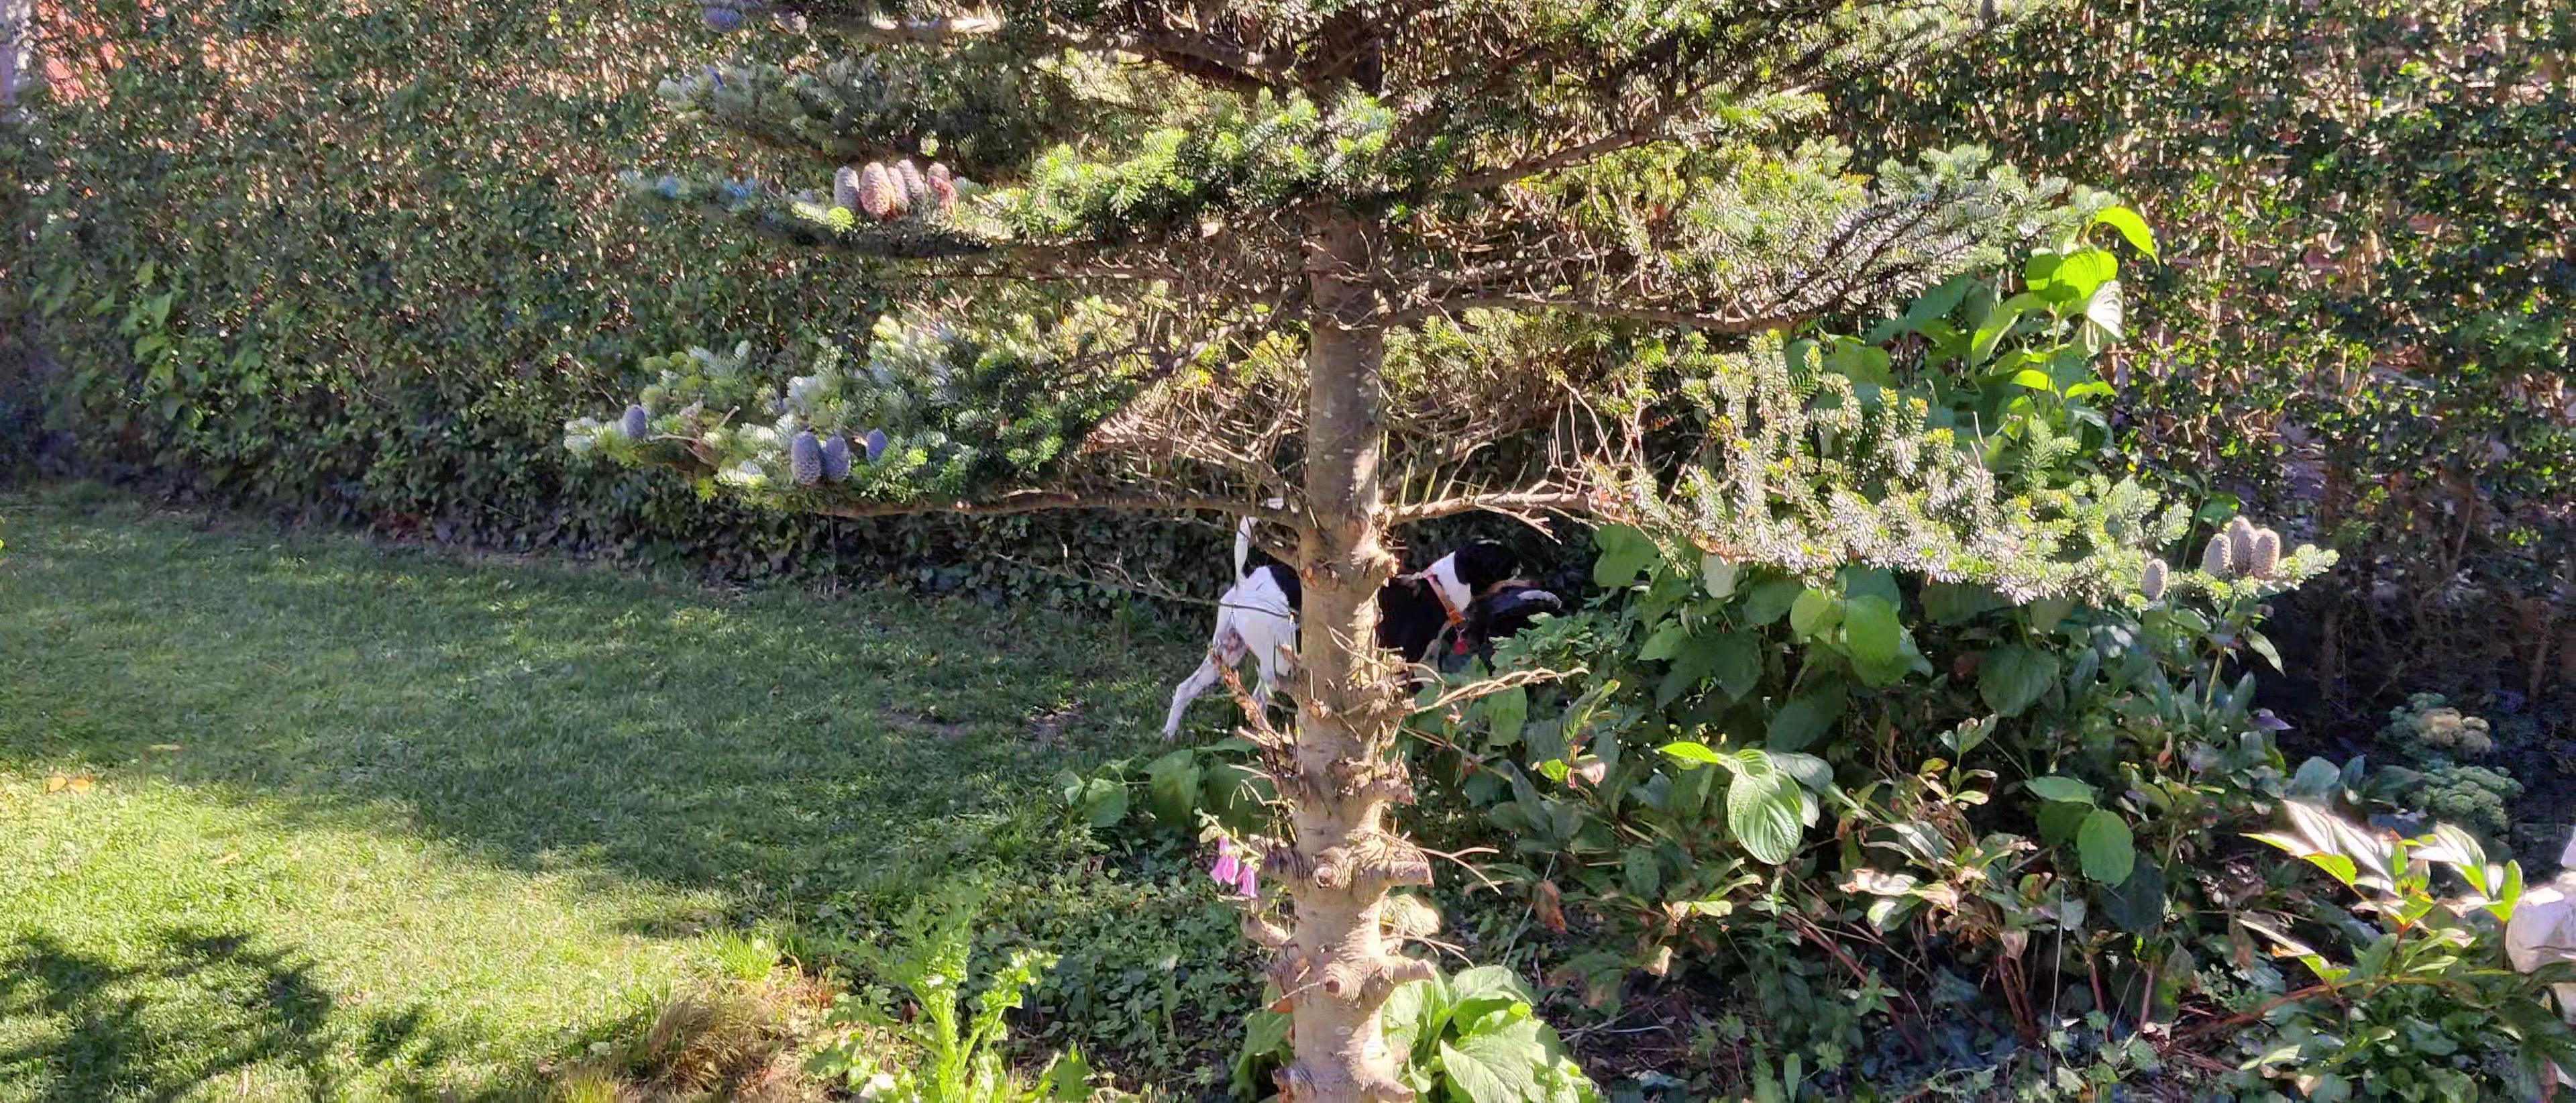Dog: (1160, 495, 1544, 756)
